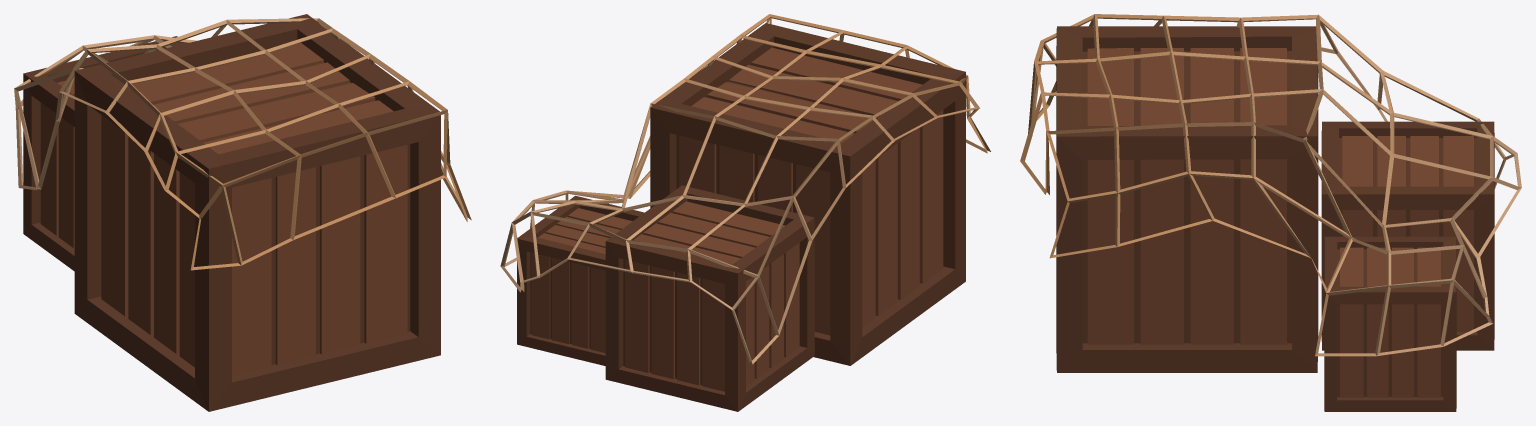
The model's file is Crate_Stack.fbx.
The picture shows the model from 3 angles, left to right: view 1: azimuth 30°, elevation 25°; view 2: azimuth 150°, elevation 25°; view 3: azimuth 270°, elevation 25°; orthographic projection. The views are drawn at different scales.
Parts seen in each view (by area): view 1: Kiste.002; view 2: Kiste.002; view 3: Kiste.002.
Boxes of the visible parts, x1,y1,x2,y2 form: Kiste.002: [14, 14, 471, 411]; Kiste.002: [500, 14, 990, 411]; Kiste.002: [1020, 14, 1521, 411].
Bounding box in the file's own units: 320 × 214 × 383.
